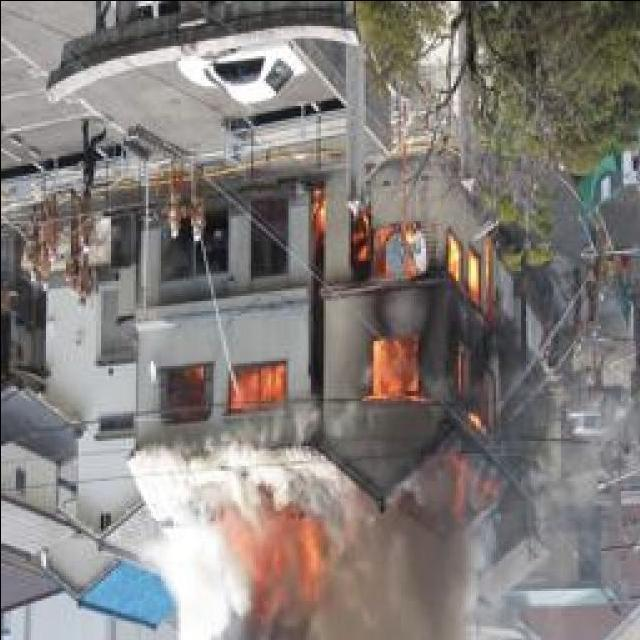Fire: (303, 179, 536, 493), (207, 504, 335, 624), (190, 360, 283, 412)
